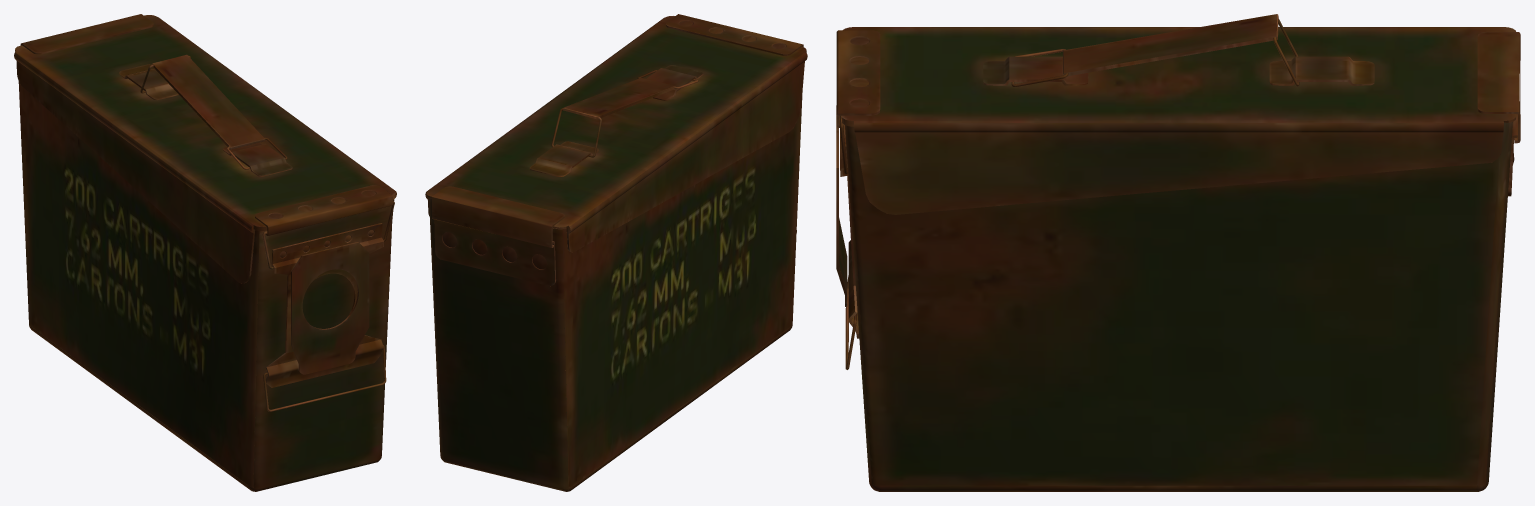
The model's file is ammo_box.glb.
3 renders of one model, left to right at view 1: azimuth 30°, elevation 25°; view 2: azimuth 150°, elevation 25°; view 3: azimuth 270°, elevation 25°, orthographic. The views are drawn at different scales.
Parts seen in each view (by area): view 1: ammo_box; view 2: ammo_box; view 3: ammo_box.
Boxes of the visible parts, x1,y1,x2,y2 form: ammo_box: [14, 14, 396, 491]; ammo_box: [425, 14, 807, 491]; ammo_box: [836, 14, 1520, 491].
Size of the model in its own units: 0.0866 by 0.1775 by 0.2579.
1 material, 1 textured.
